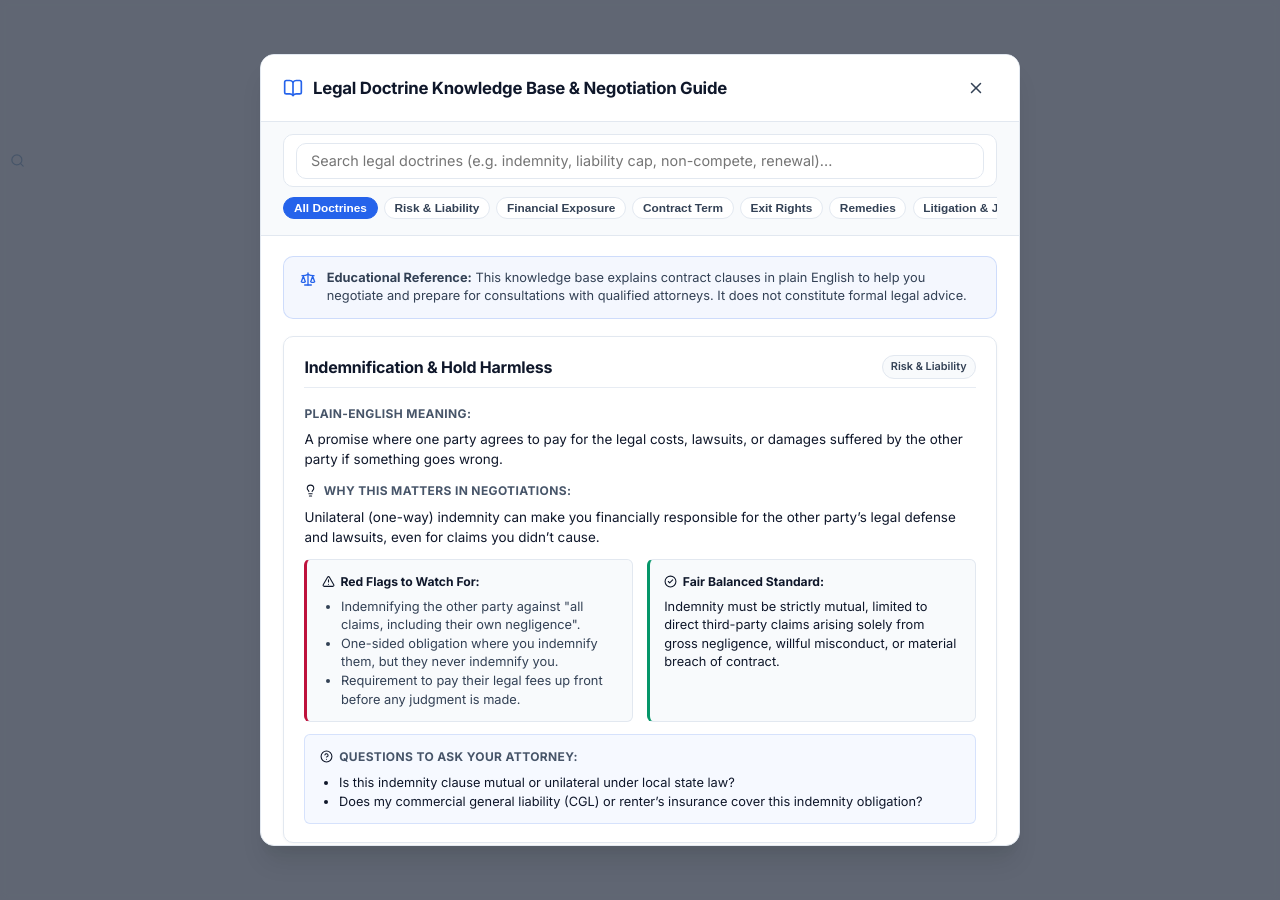
Test: LegalGlossaryModal filters doctrines by category and search keyword
Expected: the heading "Legal Doctrine Knowledge Base & Negotiation Guide" is shown, [313,77,727,100]
Expected: the heading "Indemnification & Hold Harmless" is shown, [304,356,552,378]
Replace the text in the field named "Search legal concepts" with "non-compete": (640, 161) [296,143,984,179]
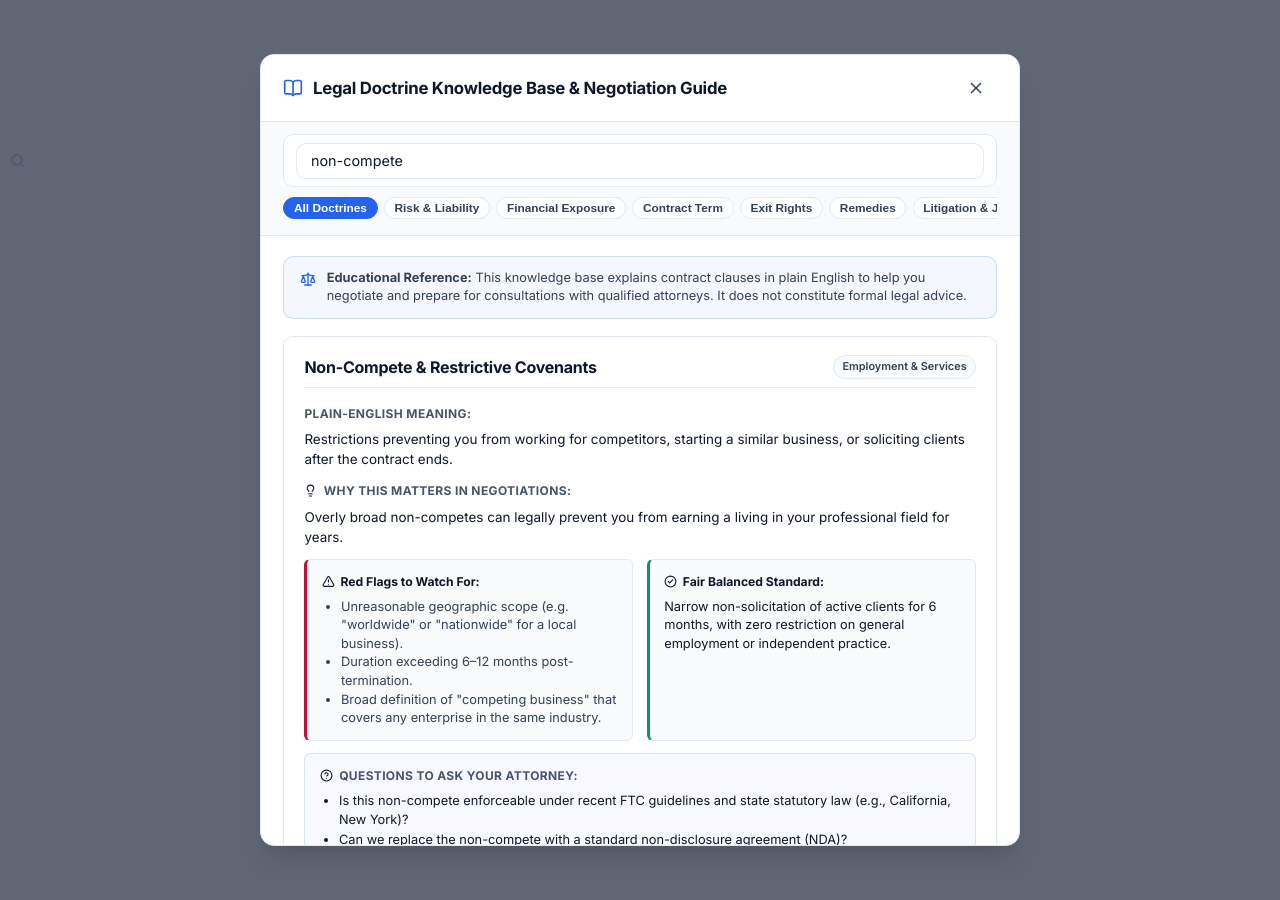
Result: the heading "Non-Compete & Restrictive Covenants" is shown at [304,356,597,378]
